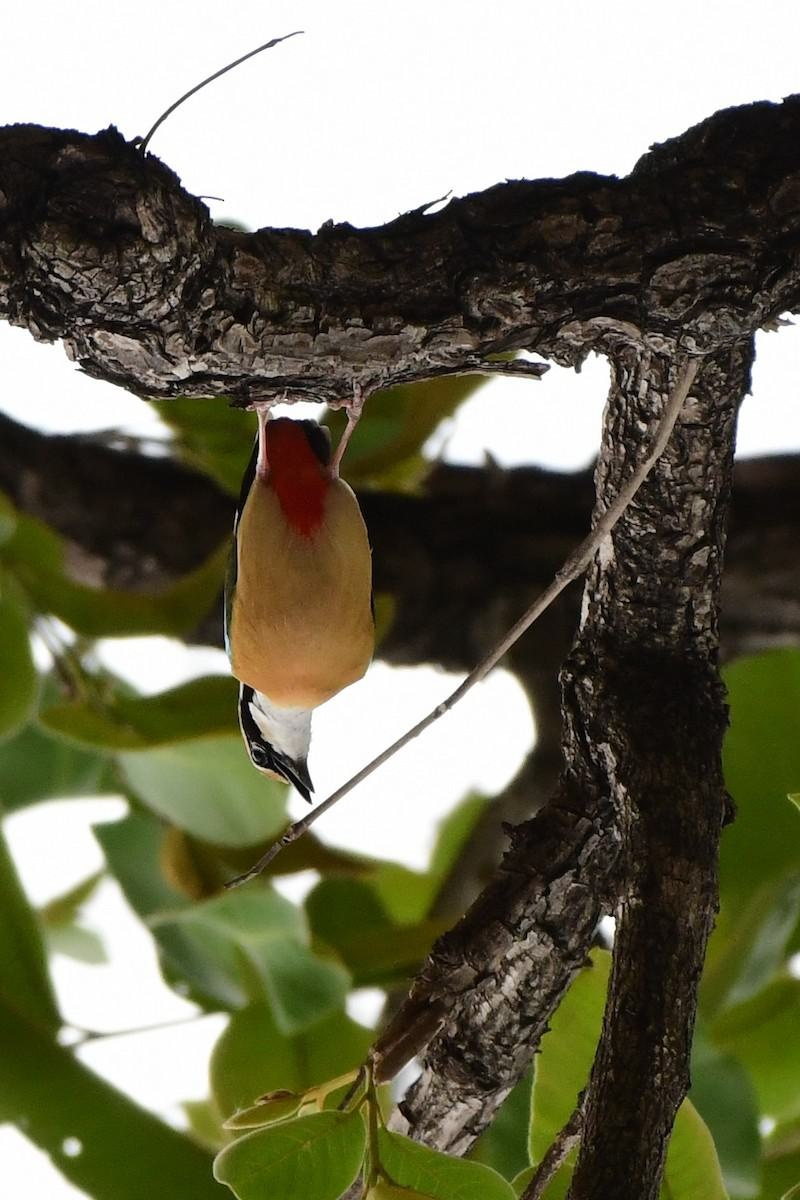pitta: (56, 259, 381, 817)
